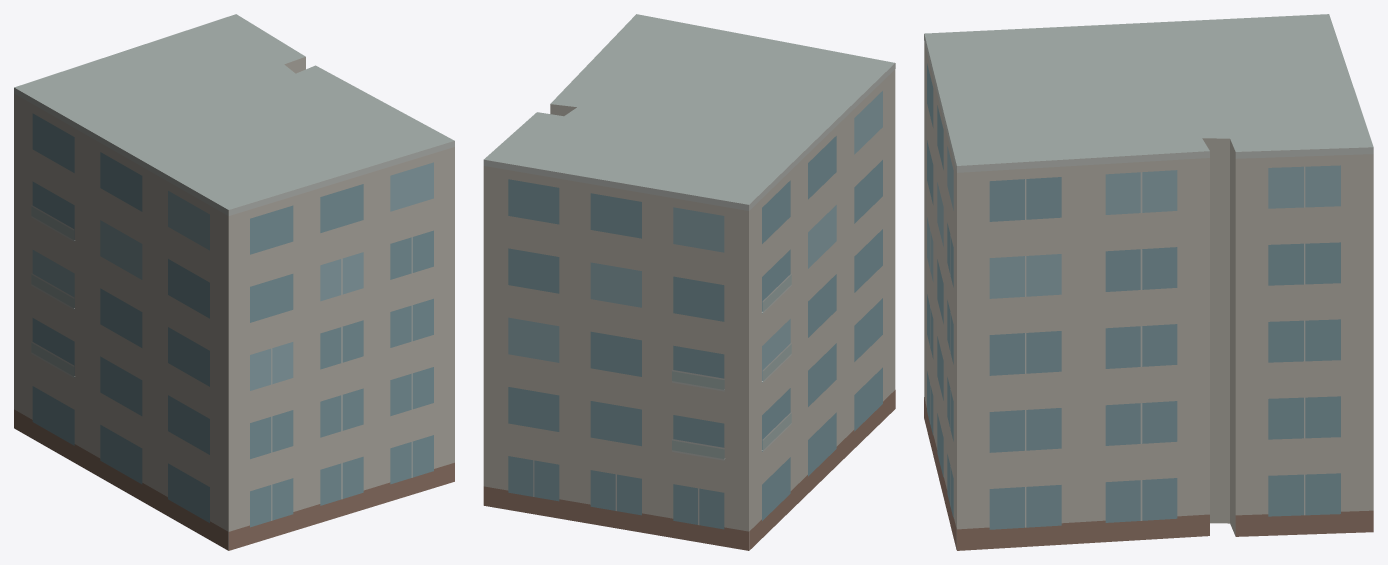
The model's file is survey-upis-32887684.glb.
3 views of the same model, side by side, from view 1: azimuth 30°, elevation 25°; view 2: azimuth 150°, elevation 25°; view 3: azimuth 270°, elevation 25° (orthographic). The views are drawn at different scales.
Visible parts, largest first — view 1: survey-upis-32887684.tmp; view 2: survey-upis-32887684.tmp; view 3: survey-upis-32887684.tmp.
Boxes of the visible parts, <box> form: survey-upis-32887684.tmp: <box>14,14,454,550</box>; survey-upis-32887684.tmp: <box>483,14,895,550</box>; survey-upis-32887684.tmp: <box>924,14,1373,550</box>.
Size of the model in its own units: 11.62 by 13.7 by 14.51.
